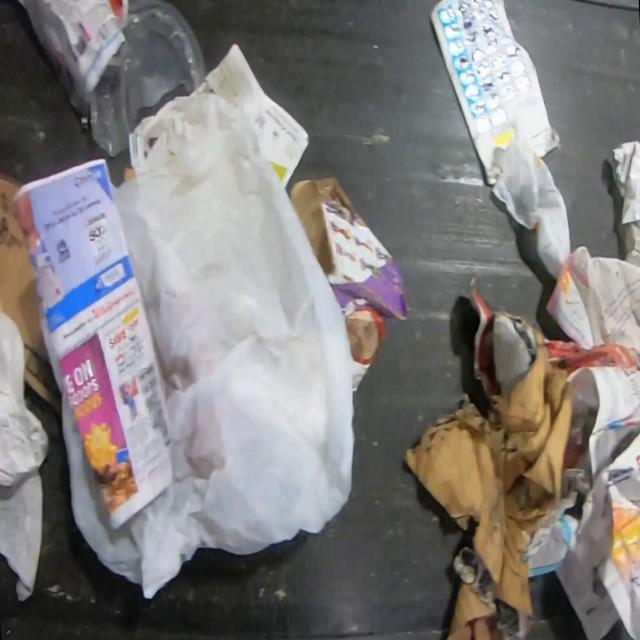cardboard: (402, 309, 574, 618), (288, 175, 408, 394), (0, 175, 61, 415), (444, 579, 501, 640)
rigid_plastic: (84, 0, 208, 159)
soft_plastic: (39, 91, 358, 600)
